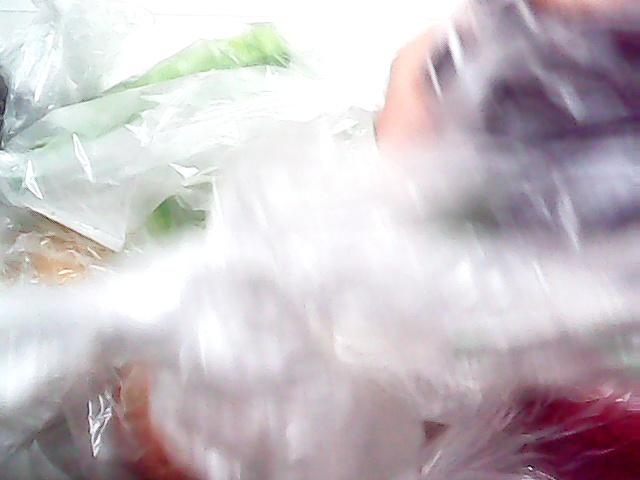apple: (488, 328, 640, 480)
cabbage: (134, 167, 222, 261)
grape: (428, 15, 640, 257)
peach: (110, 348, 254, 480)
pepper: (14, 23, 286, 166)
potato: (1, 206, 121, 298)
